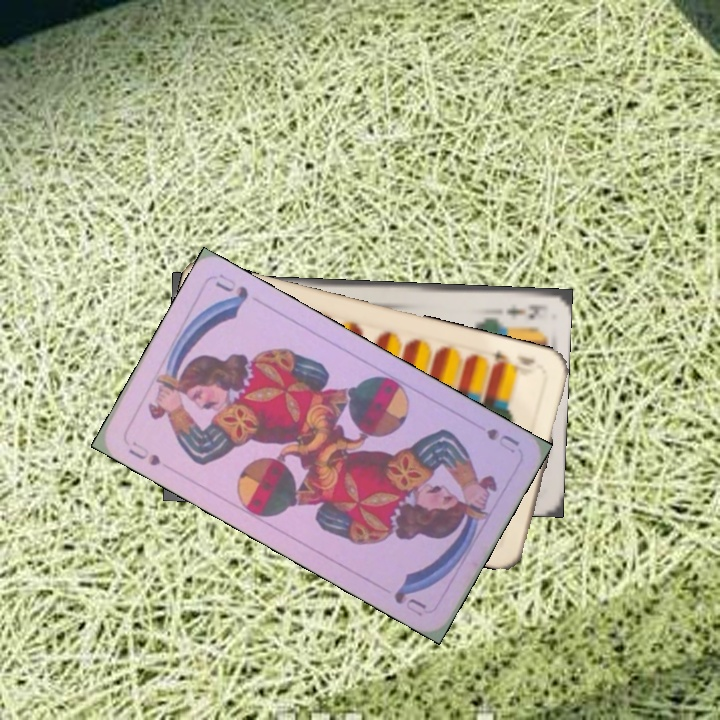E10: (486, 347, 539, 369)
EK: (502, 299, 545, 321)
SU: (124, 436, 164, 469), (482, 424, 522, 456)
